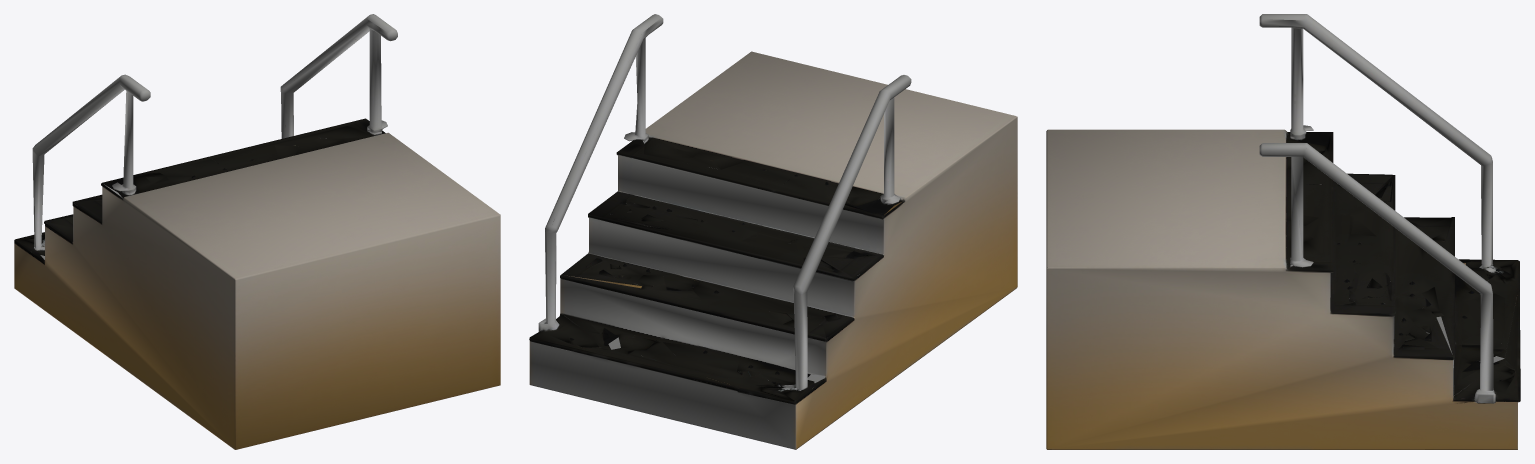
The model's file is ring_steps.glb.
3 views of the same model, side by side, from view 1: azimuth 30°, elevation 25°; view 2: azimuth 150°, elevation 25°; view 3: azimuth 270°, elevation 25° (orthographic). The views are drawn at different scales.
Visible parts, largest first — view 1: tripo_node_f756e2e9-5854-4a32-a235-e9e45875147f; view 2: tripo_node_f756e2e9-5854-4a32-a235-e9e45875147f; view 3: tripo_node_f756e2e9-5854-4a32-a235-e9e45875147f.
Part boxes in pixels (x1,y1,x2,y2): tripo_node_f756e2e9-5854-4a32-a235-e9e45875147f: (14,14,500,449); tripo_node_f756e2e9-5854-4a32-a235-e9e45875147f: (529,14,1017,449); tripo_node_f756e2e9-5854-4a32-a235-e9e45875147f: (1046,14,1520,449).
Size of the model in its own units: 0.7065 by 0.7025 by 1.
1 material, 1 textured.
